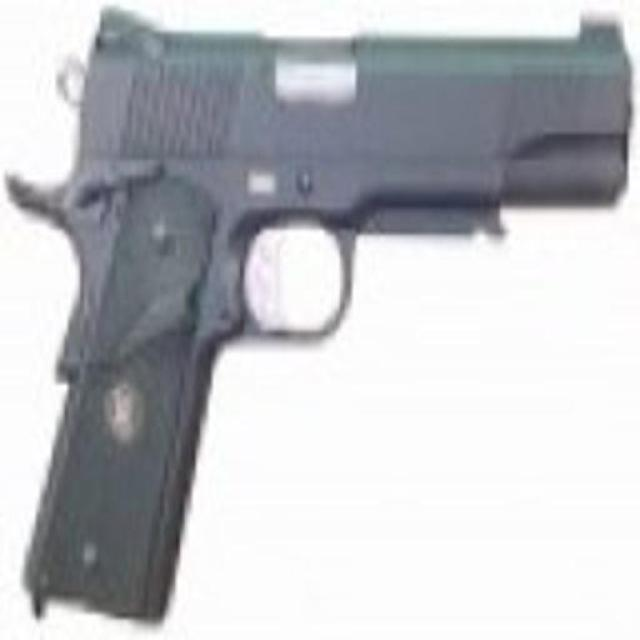pistol: (20, 10, 627, 617)
